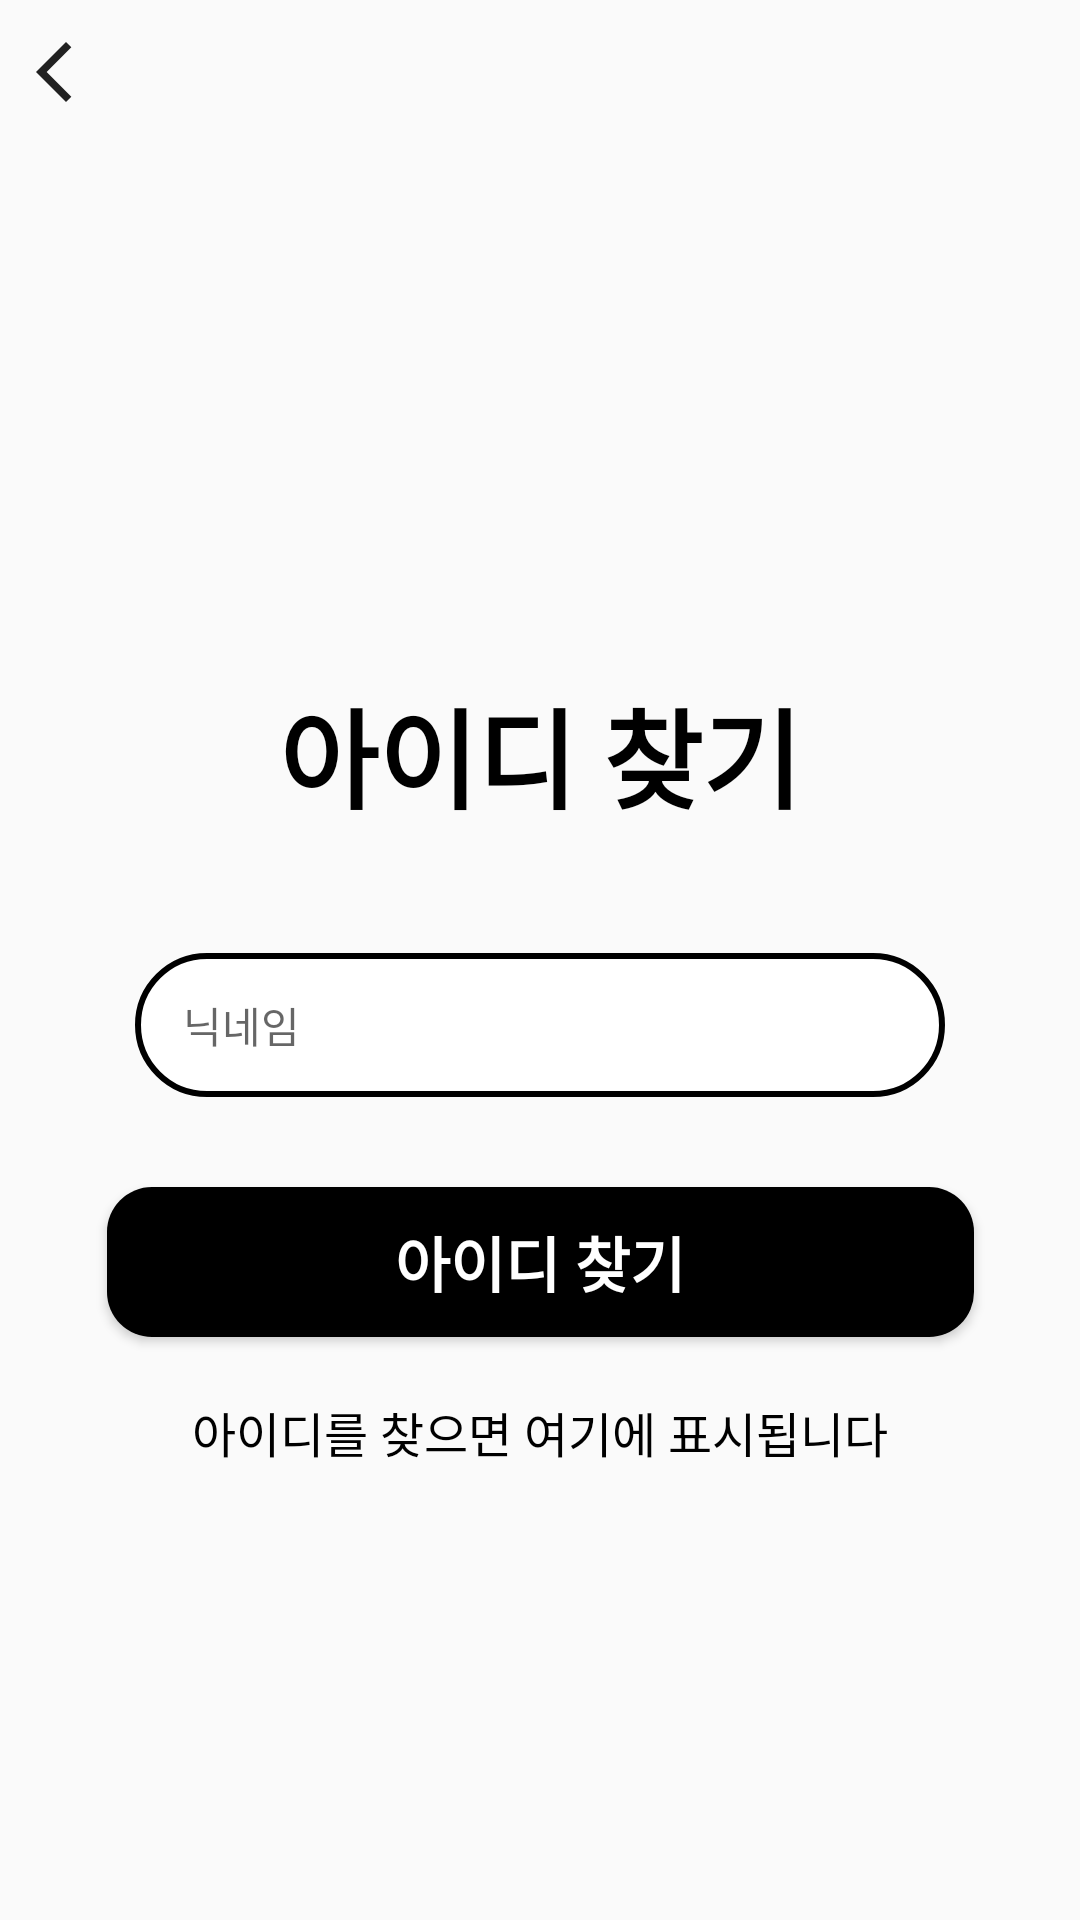

Icons on this 1080*1920 Android screen, each with its box as [x1=x1, y1=y1, x2=x2, y2=y2]:
뒤로가기: [x1=36, y1=42, x2=71, y2=102]
